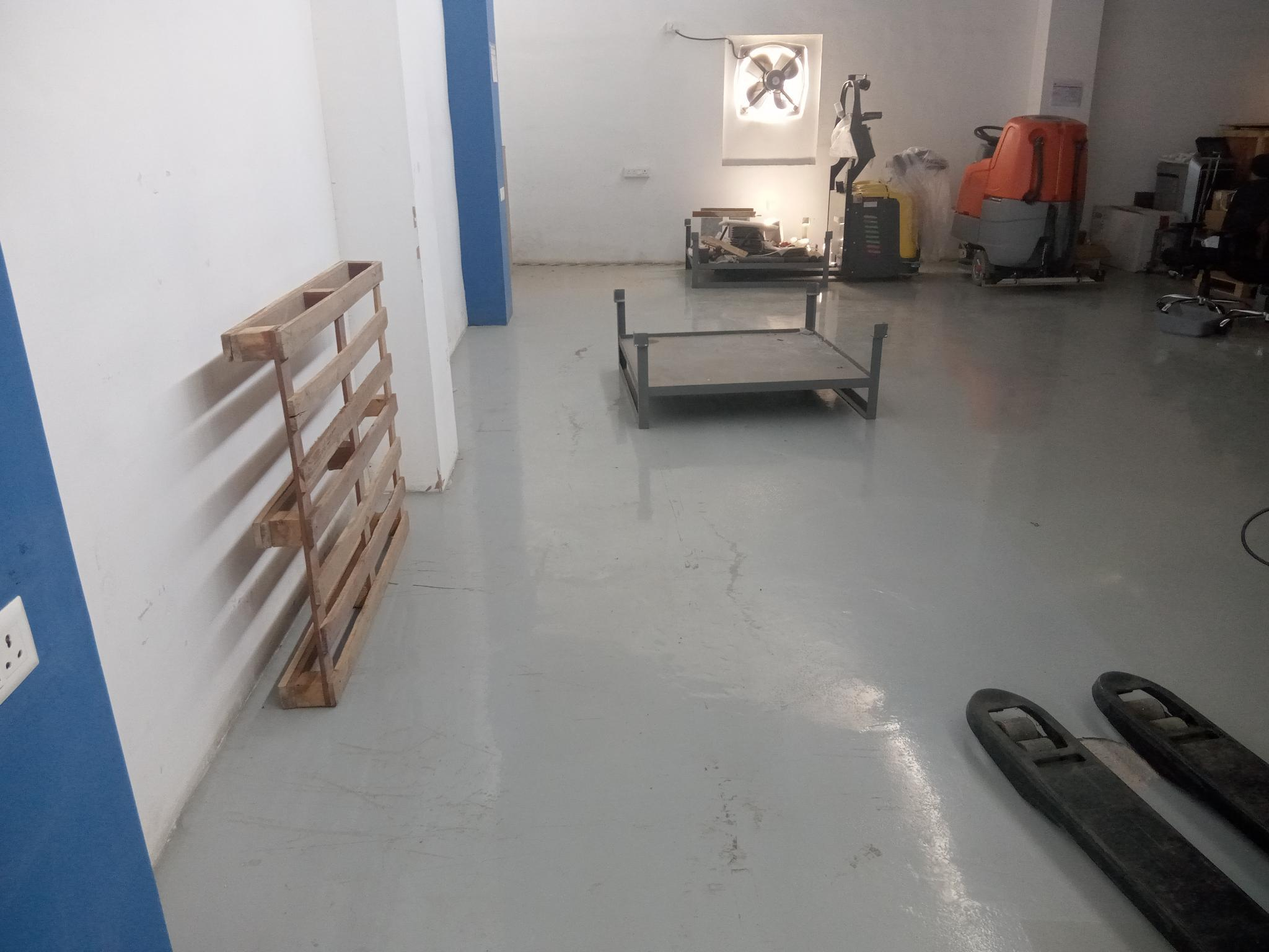pallet: (205, 245, 424, 736), (607, 269, 896, 442)
